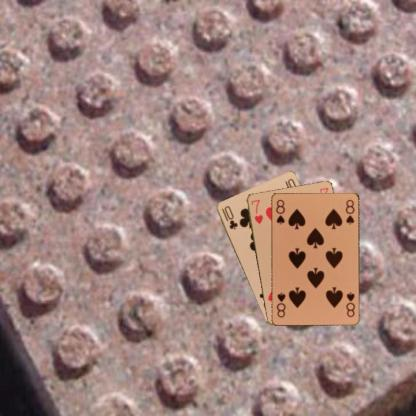10c: (219, 203, 239, 230)
7h: (248, 197, 264, 225)
8s: (343, 289, 356, 318), (274, 196, 286, 226)
